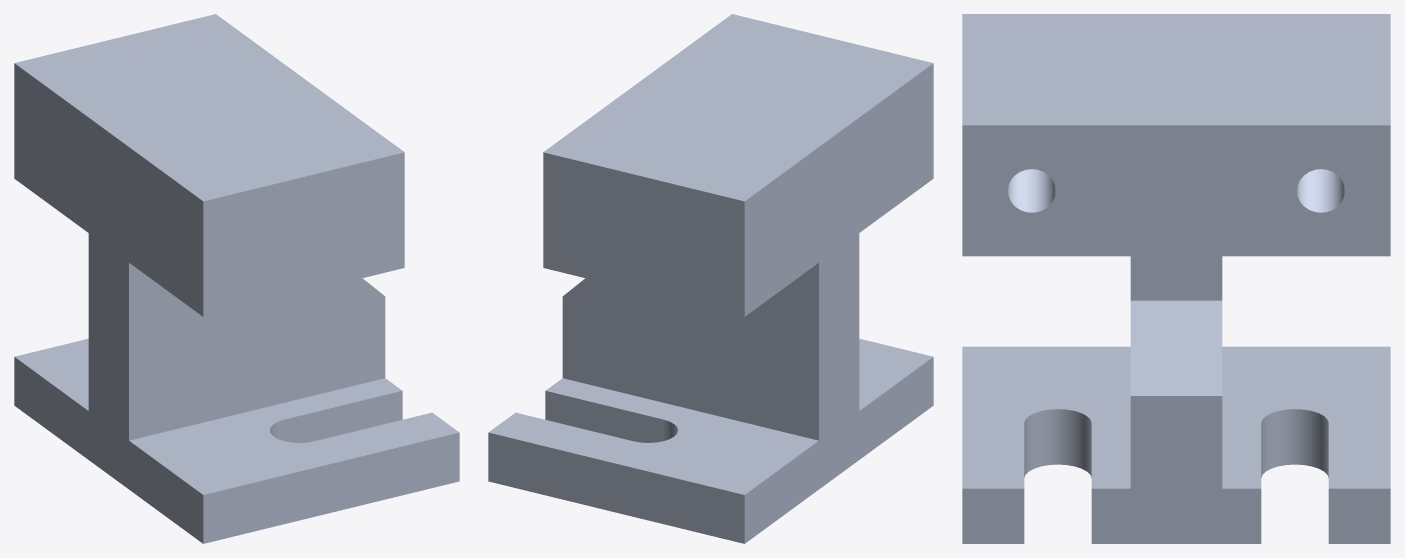
3 views of the same model, side by side, from view 1: azimuth 30°, elevation 25°; view 2: azimuth 150°, elevation 25°; view 3: azimuth 270°, elevation 25° (orthographic). The views are drawn at different scales.
Visible parts, largest first — view 1: satin finish aluminum; view 2: satin finish aluminum; view 3: satin finish aluminum, satin finish aluminum (Cosmetic Thread).
Boxes of the visible parts, x1,y1,x2,y2 form: satin finish aluminum: [14, 14, 459, 543]; satin finish aluminum: [488, 14, 933, 543]; satin finish aluminum: [962, 14, 1390, 543]; satin finish aluminum (Cosmetic Thread): [1008, 169, 1344, 212].
Bounding box in the file's own units: 0.0348 × 0.0444 × 0.0444.
